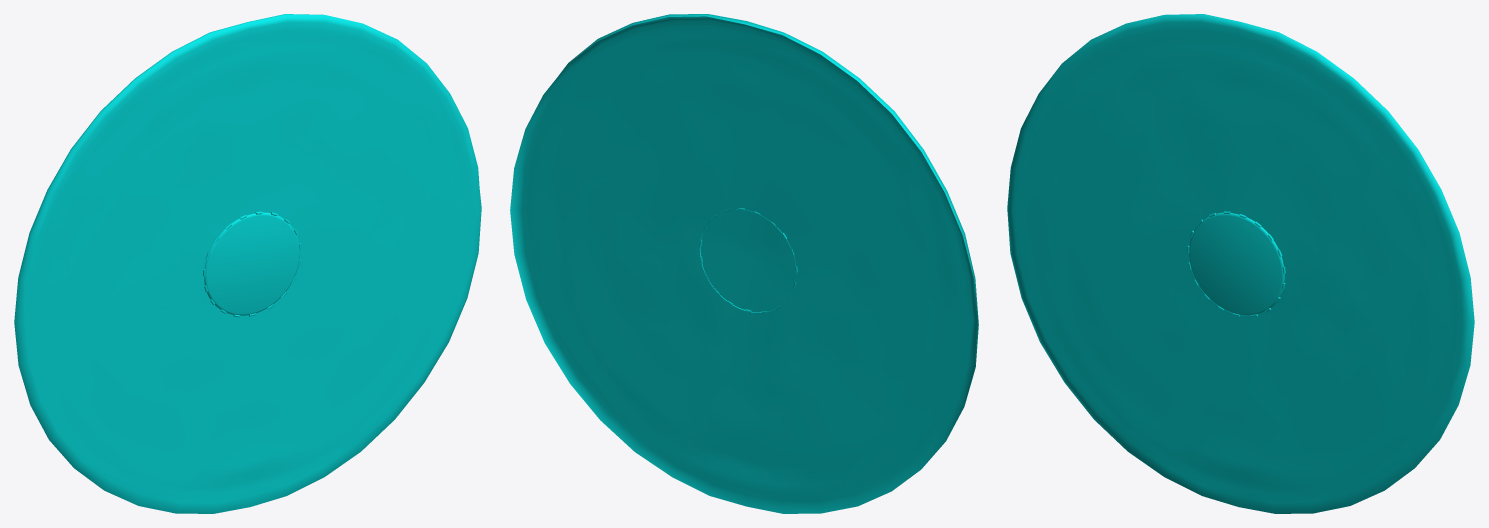
File: bolla_low.fbx
The picture shows the model from 3 angles, left to right: view 1: azimuth 30°, elevation 25°; view 2: azimuth 150°, elevation 25°; view 3: azimuth 330°, elevation 25°; orthographic projection.
Visible parts, largest first — view 1: toppa_low, bolla_low; view 2: toppa_low; view 3: toppa_low, bolla_low.
Part boxes in pixels (x1,y1,x2,y2): toppa_low: [14, 14, 481, 513]; bolla_low: [204, 212, 299, 315]; toppa_low: [510, 14, 978, 513]; toppa_low: [1007, 14, 1474, 513]; bolla_low: [1189, 212, 1284, 315].
Bounding box in the file's own units: 213 × 210 × 4.27.
